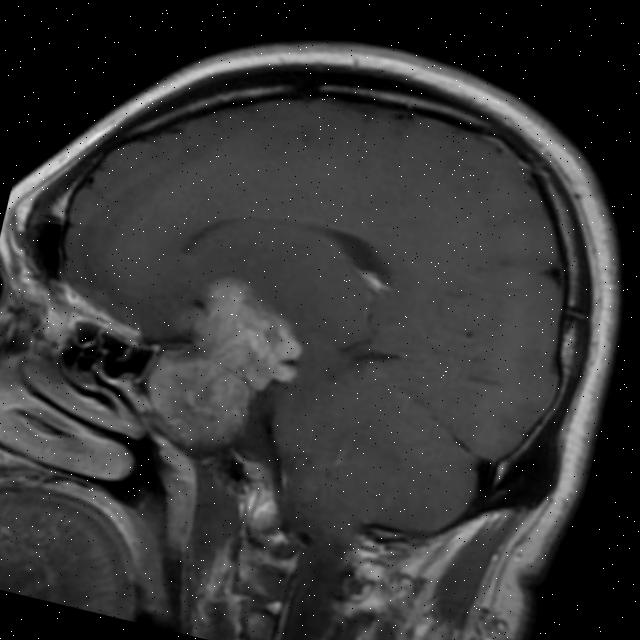Pituitary: (134, 261, 316, 466)
